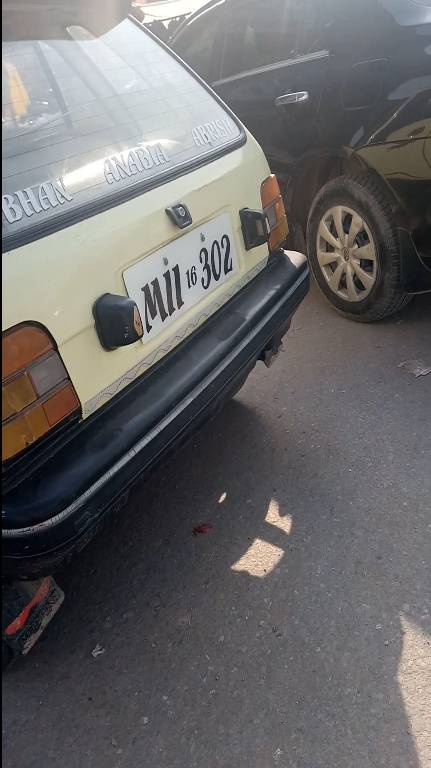number_plate: (123, 221, 244, 339)
